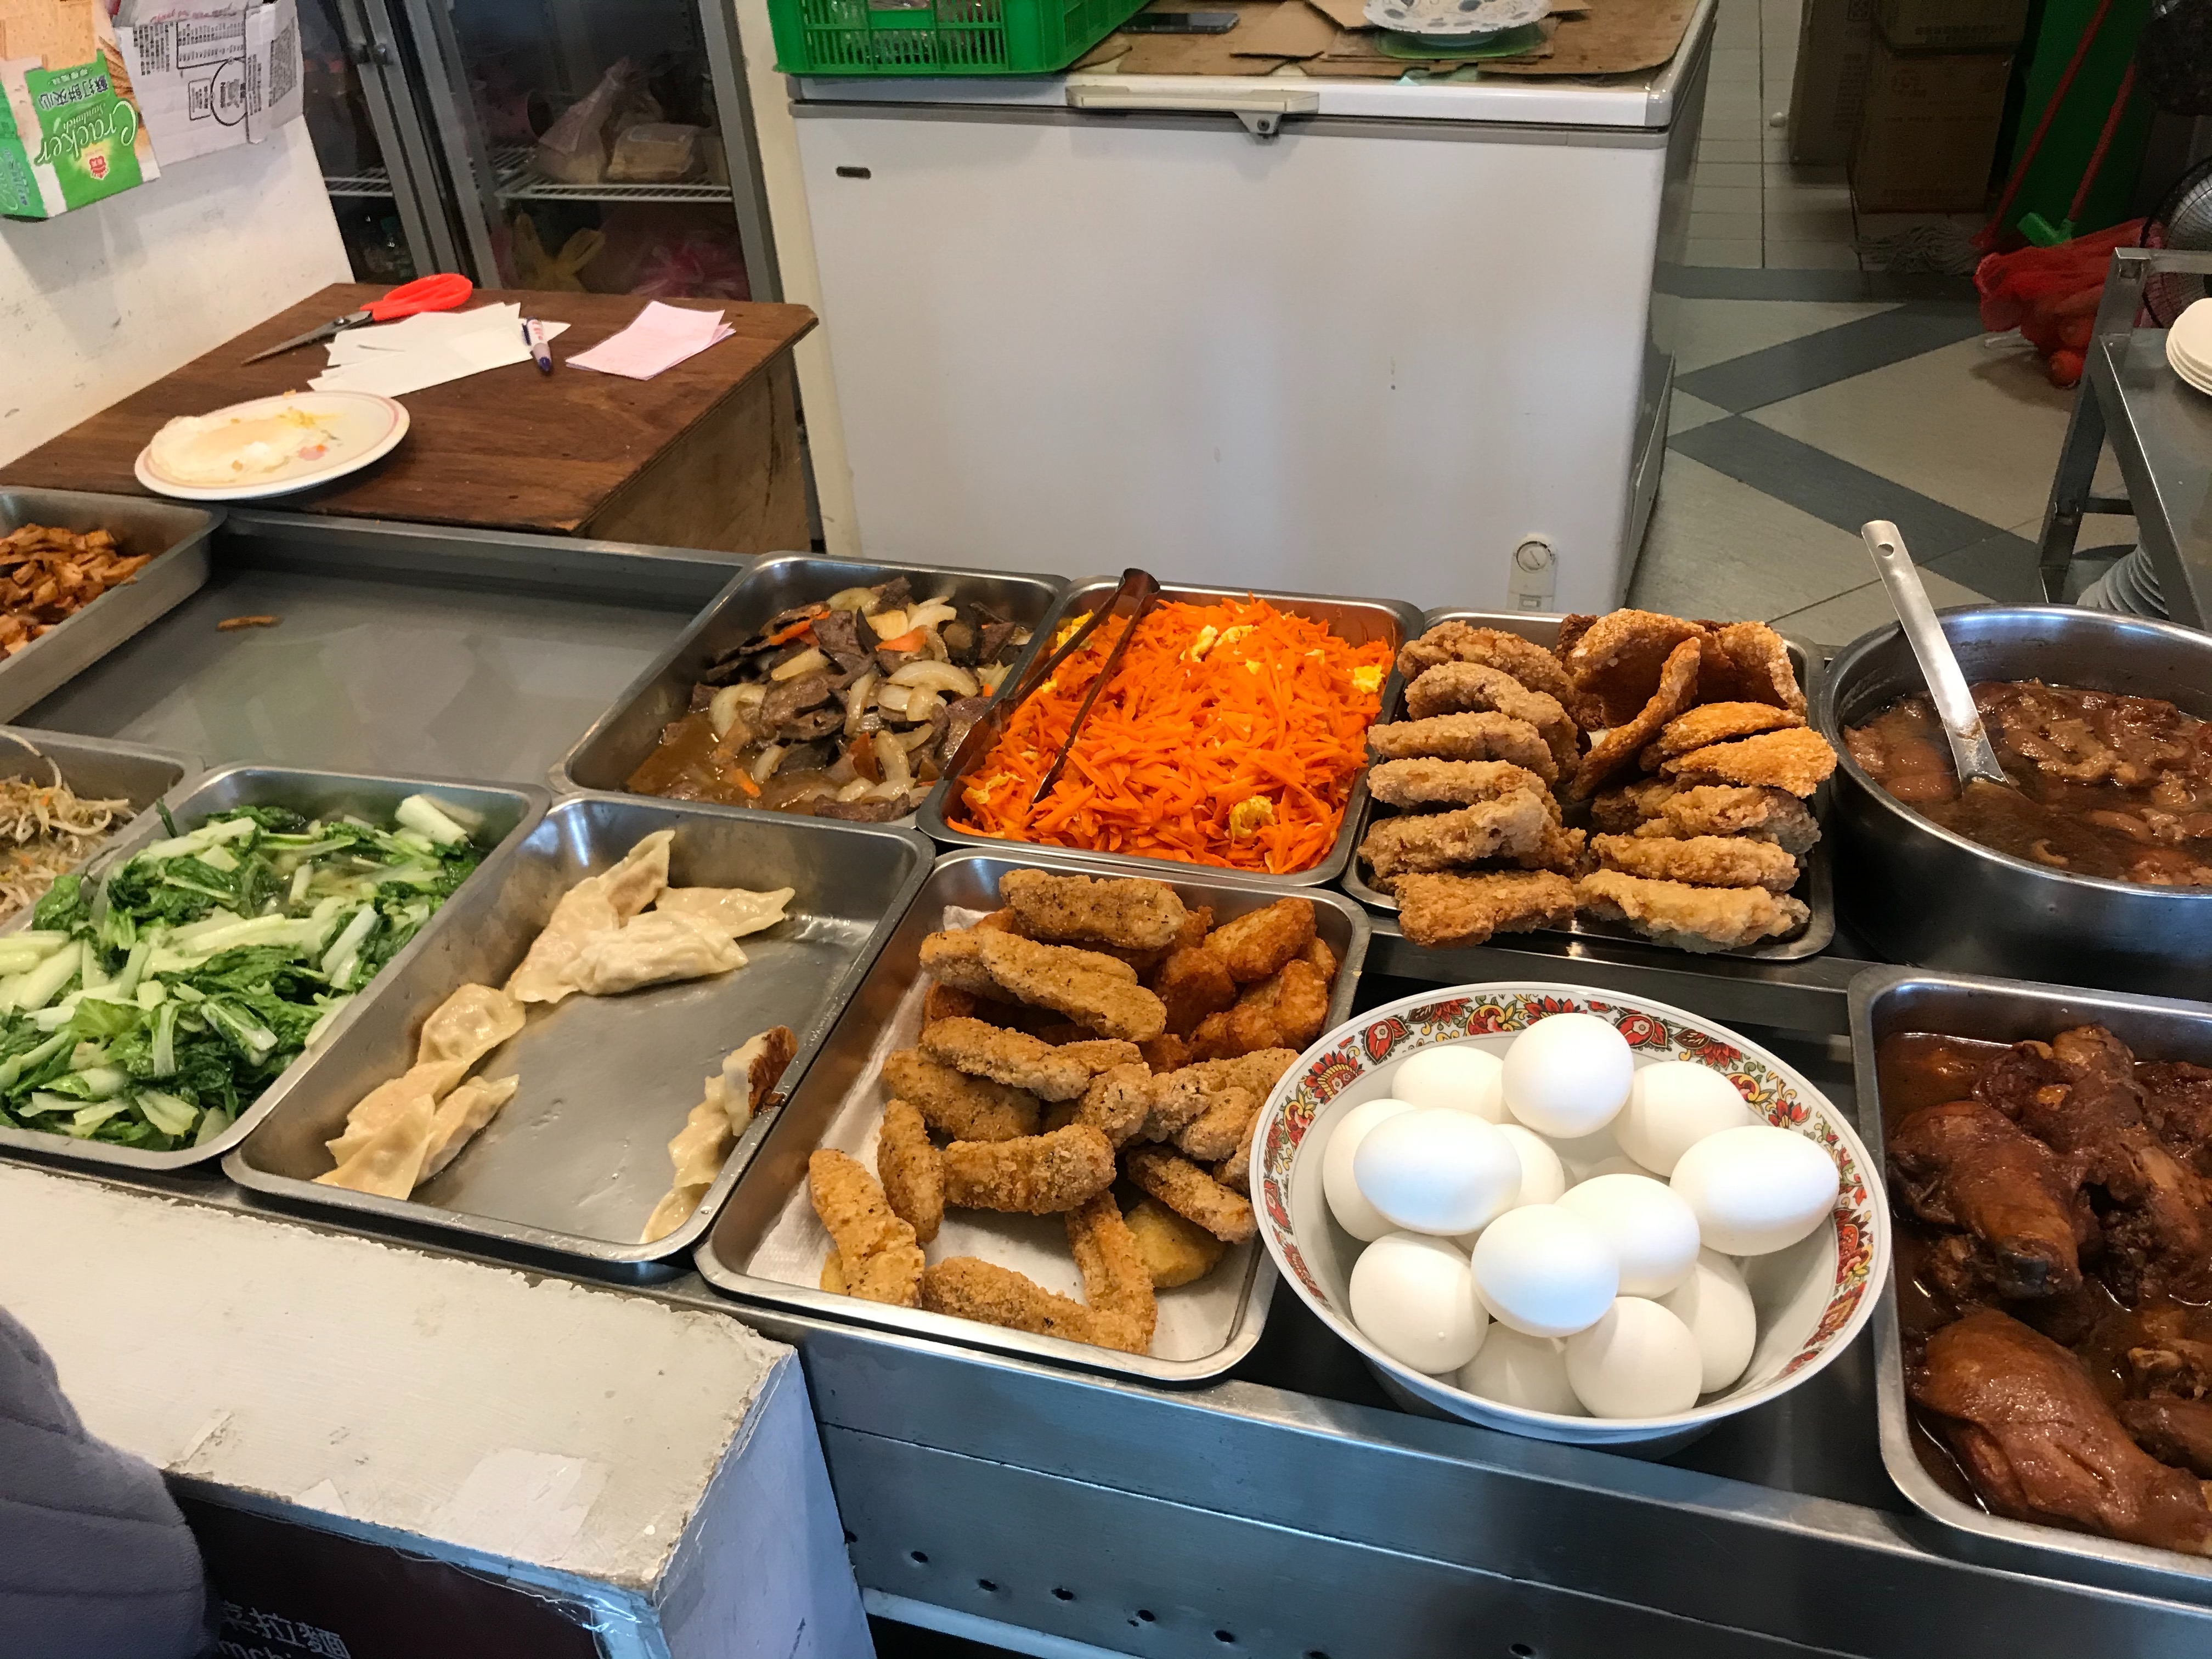carrot_eggs: (1049, 608, 1346, 871)
fried_dumplings: (521, 840, 754, 1004)
fried_eggs: (160, 392, 334, 488)
mung_bean_sprouts: (0, 770, 125, 873)
